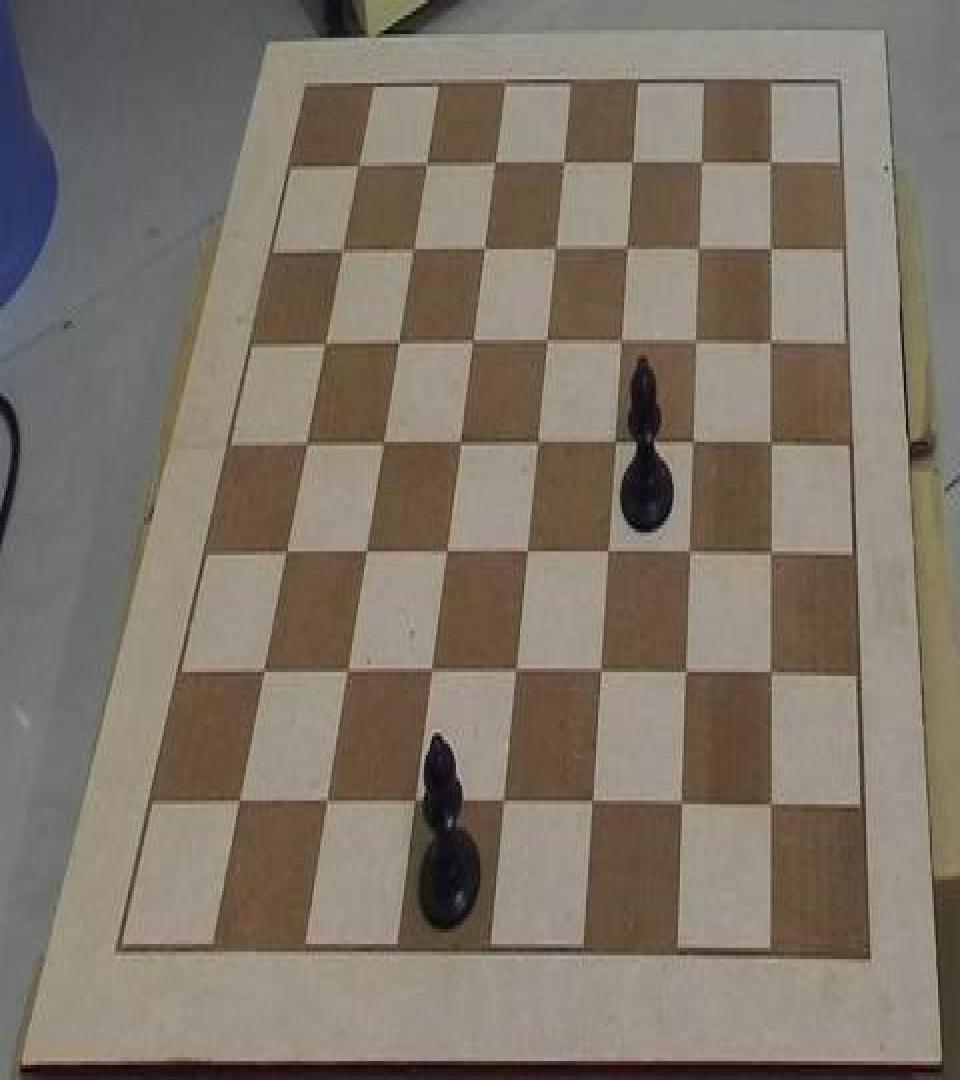xcorner: (762, 139, 782, 178), (692, 142, 712, 180), (622, 142, 642, 180), (553, 144, 573, 182), (484, 144, 504, 182), (415, 146, 435, 184), (346, 146, 366, 184), (762, 226, 782, 264), (689, 228, 709, 266), (617, 228, 637, 266), (545, 230, 565, 268), (473, 230, 493, 268), (401, 232, 421, 270), (330, 232, 350, 270), (762, 321, 782, 359), (687, 321, 707, 359), (612, 322, 632, 360), (537, 322, 557, 360), (462, 324, 482, 362), (387, 324, 407, 362), (313, 324, 333, 362), (763, 423, 783, 461), (684, 423, 704, 461), (606, 424, 626, 462), (527, 424, 547, 462), (450, 424, 470, 462), (372, 426, 392, 464), (295, 426, 315, 464), (763, 534, 783, 572), (681, 534, 701, 572), (599, 534, 619, 572), (517, 534, 537, 572), (436, 536, 456, 574), (355, 536, 375, 574), (275, 536, 295, 574), (763, 655, 783, 693), (677, 655, 697, 693), (592, 655, 612, 693), (507, 655, 527, 693), (422, 655, 442, 693), (337, 655, 357, 693), (253, 655, 273, 693), (764, 787, 784, 825), (674, 787, 694, 825), (584, 787, 604, 825), (495, 787, 515, 825), (406, 787, 426, 825), (317, 787, 337, 825), (229, 787, 249, 825)
